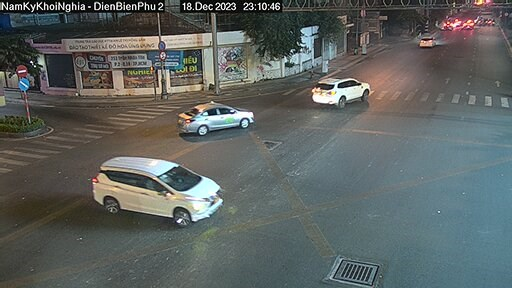car: (90, 149, 226, 232), (176, 96, 258, 135), (309, 71, 373, 104), (418, 33, 440, 49)
